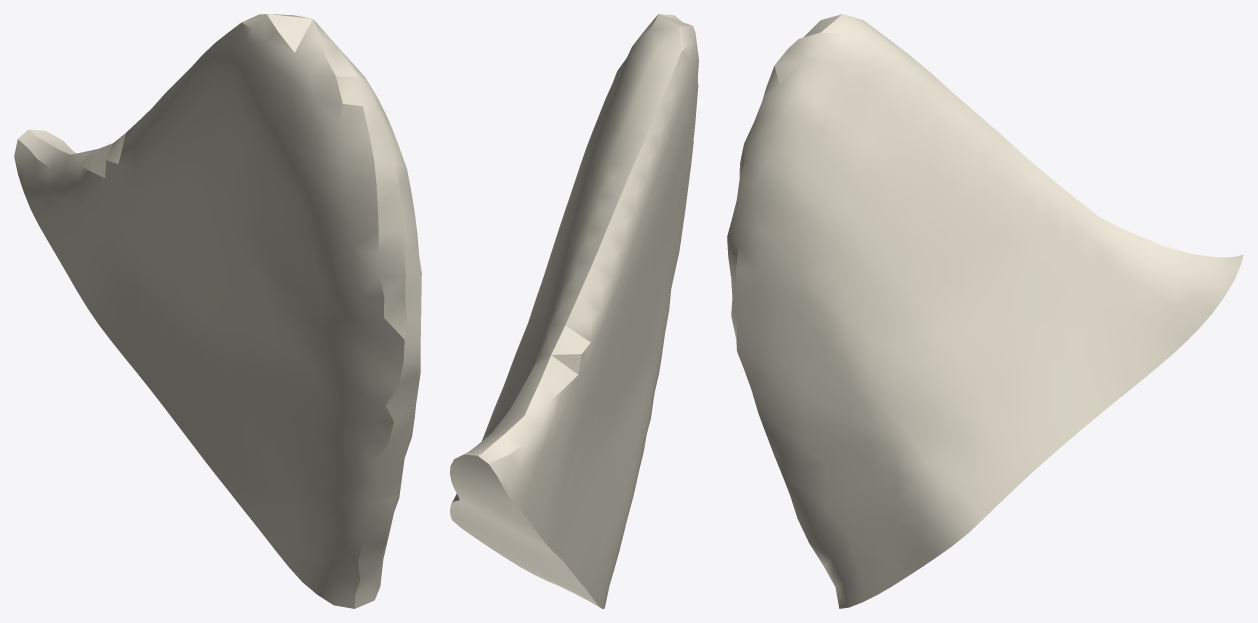
Rendered from fma52834_mm908m.glb.
The picture shows the model from 3 angles, left to right: view 1: azimuth 30°, elevation 25°; view 2: azimuth 150°, elevation 25°; view 3: azimuth 270°, elevation 25°; orthographic projection. The views are drawn at different scales.
Parts seen in each view (by area): view 1: FMA52834_MM908M; view 2: FMA52834_MM908M; view 3: FMA52834_MM908M.
Boxes of the visible parts, box(x1,y1,x2,y2) form: FMA52834_MM908M: box(14, 14, 421, 608); FMA52834_MM908M: box(450, 14, 698, 608); FMA52834_MM908M: box(727, 14, 1243, 608).
Bounding box in the file's own units: 0.00674 × 0.02 × 0.0169.
